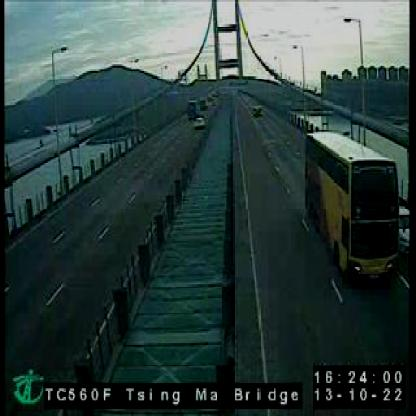Bus: (303, 128, 397, 280)
Car: (193, 114, 206, 131), (252, 104, 263, 117)
